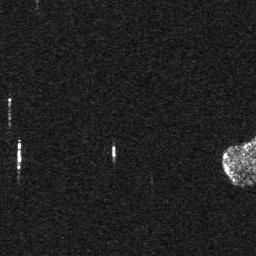ship: (15, 141, 24, 165), (111, 145, 117, 160)
